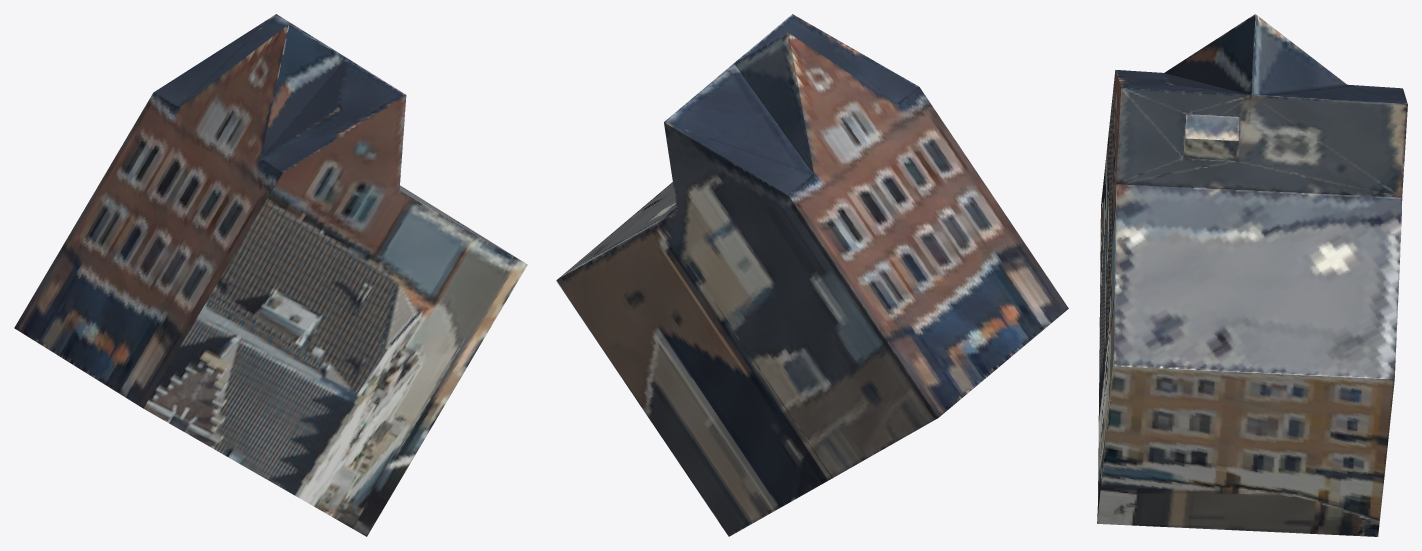
The picture shows the model from 3 angles, left to right: view 1: azimuth 30°, elevation 25°; view 2: azimuth 150°, elevation 25°; view 3: azimuth 270°, elevation 25°; orthographic projection. The views are drawn at different scales.
Visible parts, largest first — view 1: BAG_0599100000671723 (×3); view 2: BAG_0599100000671723 (×3); view 3: BAG_0599100000671723 (×5).
Part boxes in pixels (x1,y1,x2,y2): BAG_0599100000671723 (×3): (14,14,527,536); BAG_0599100000671723 (×3): (556,14,1068,536); BAG_0599100000671723 (×5): (1097,14,1407,536).
Size of the model in its own units: 20.84 by 24.19 by 13.09.
5 materials, 5 textured.
